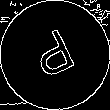P_SE: (27, 24, 83, 86)
